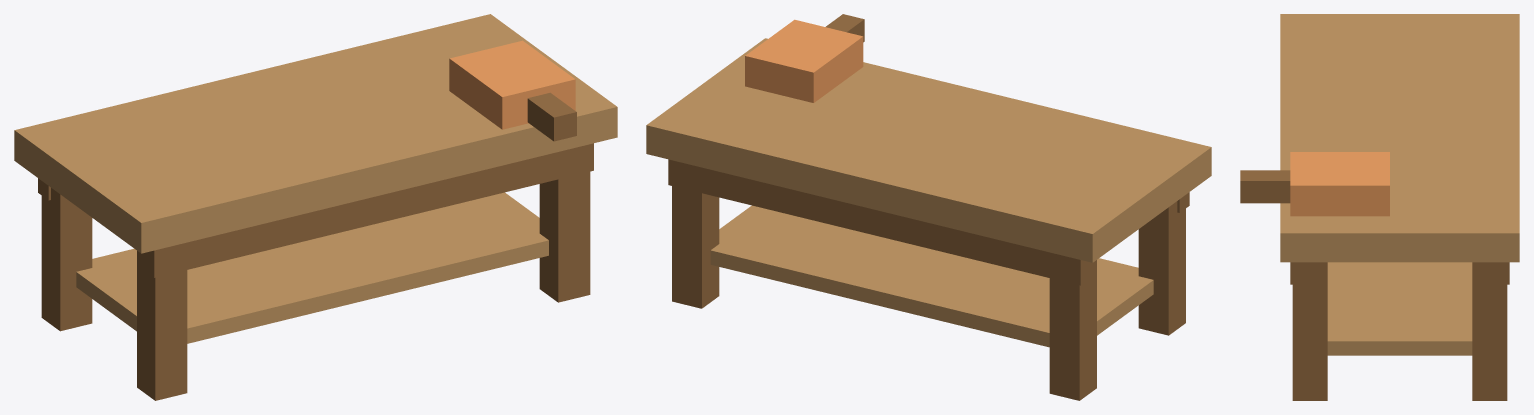
File: workbench.glb
The picture shows the model from 3 angles, left to right: view 1: azimuth 30°, elevation 25°; view 2: azimuth 150°, elevation 25°; view 3: azimuth 270°, elevation 25°; orthographic projection. The views are drawn at different scales.
Parts seen in each view (by area): view 1: workbench; view 2: workbench; view 3: workbench.
Part boxes in pixels (x1,y1,x2,y2): workbench: (14,14,617,400); workbench: (646,14,1211,400); workbench: (1240,14,1519,400).
Bounding box in the file's own units: 52 × 23 × 28.
